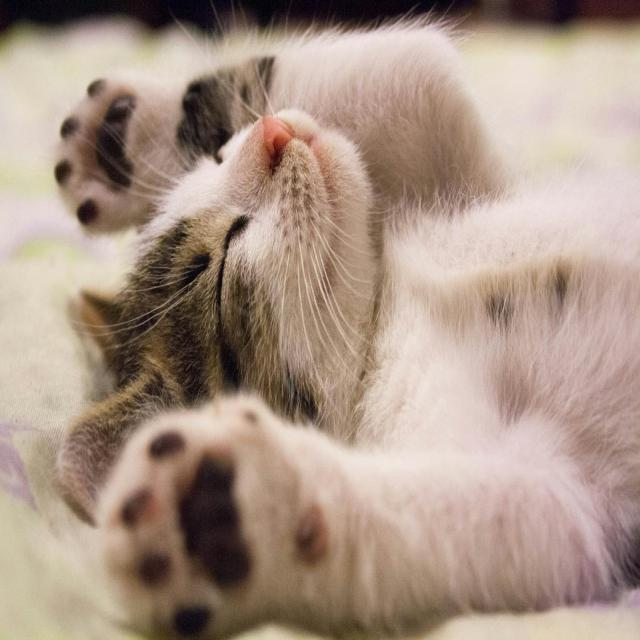Cat: (50, 1, 639, 638)
